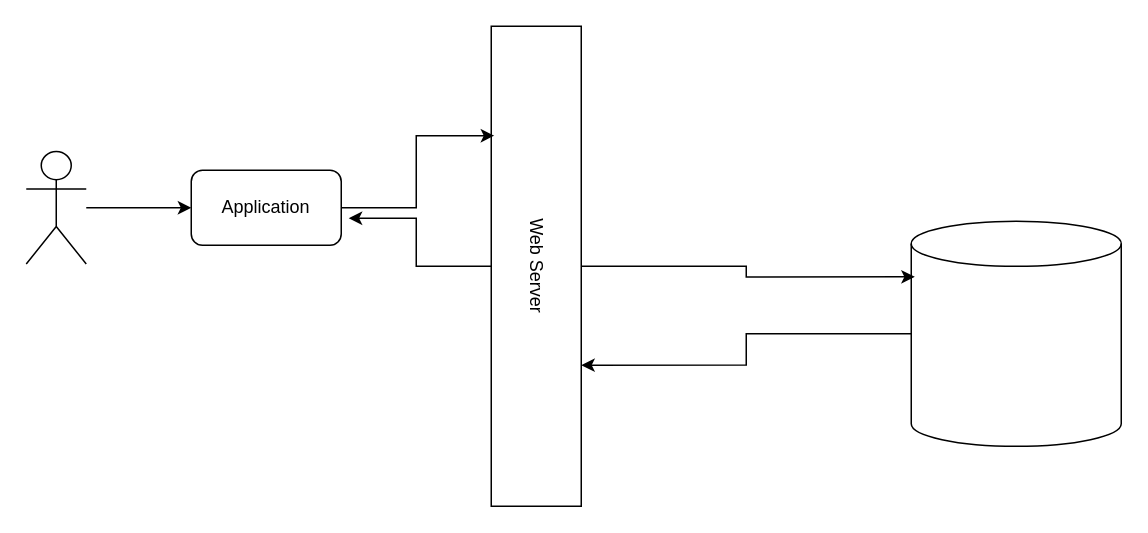
The diagram is 1148 pixels wide and 533 high, and some of its shapes have lost their labels. The shapes that lost their labels are listed below. From the top down, each one's centre as x and y in pixels, then its label:
the point at 55,207: User
the point at 1015,333: Database
